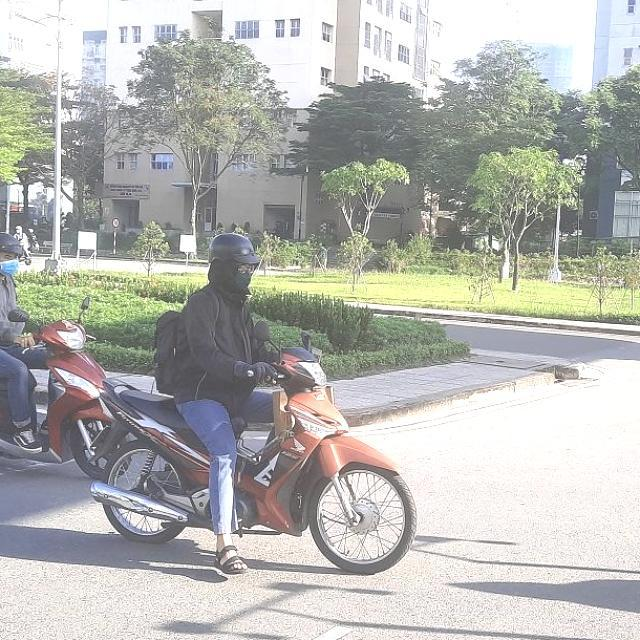Helmet: (203, 229, 264, 293), (0, 223, 26, 275)
